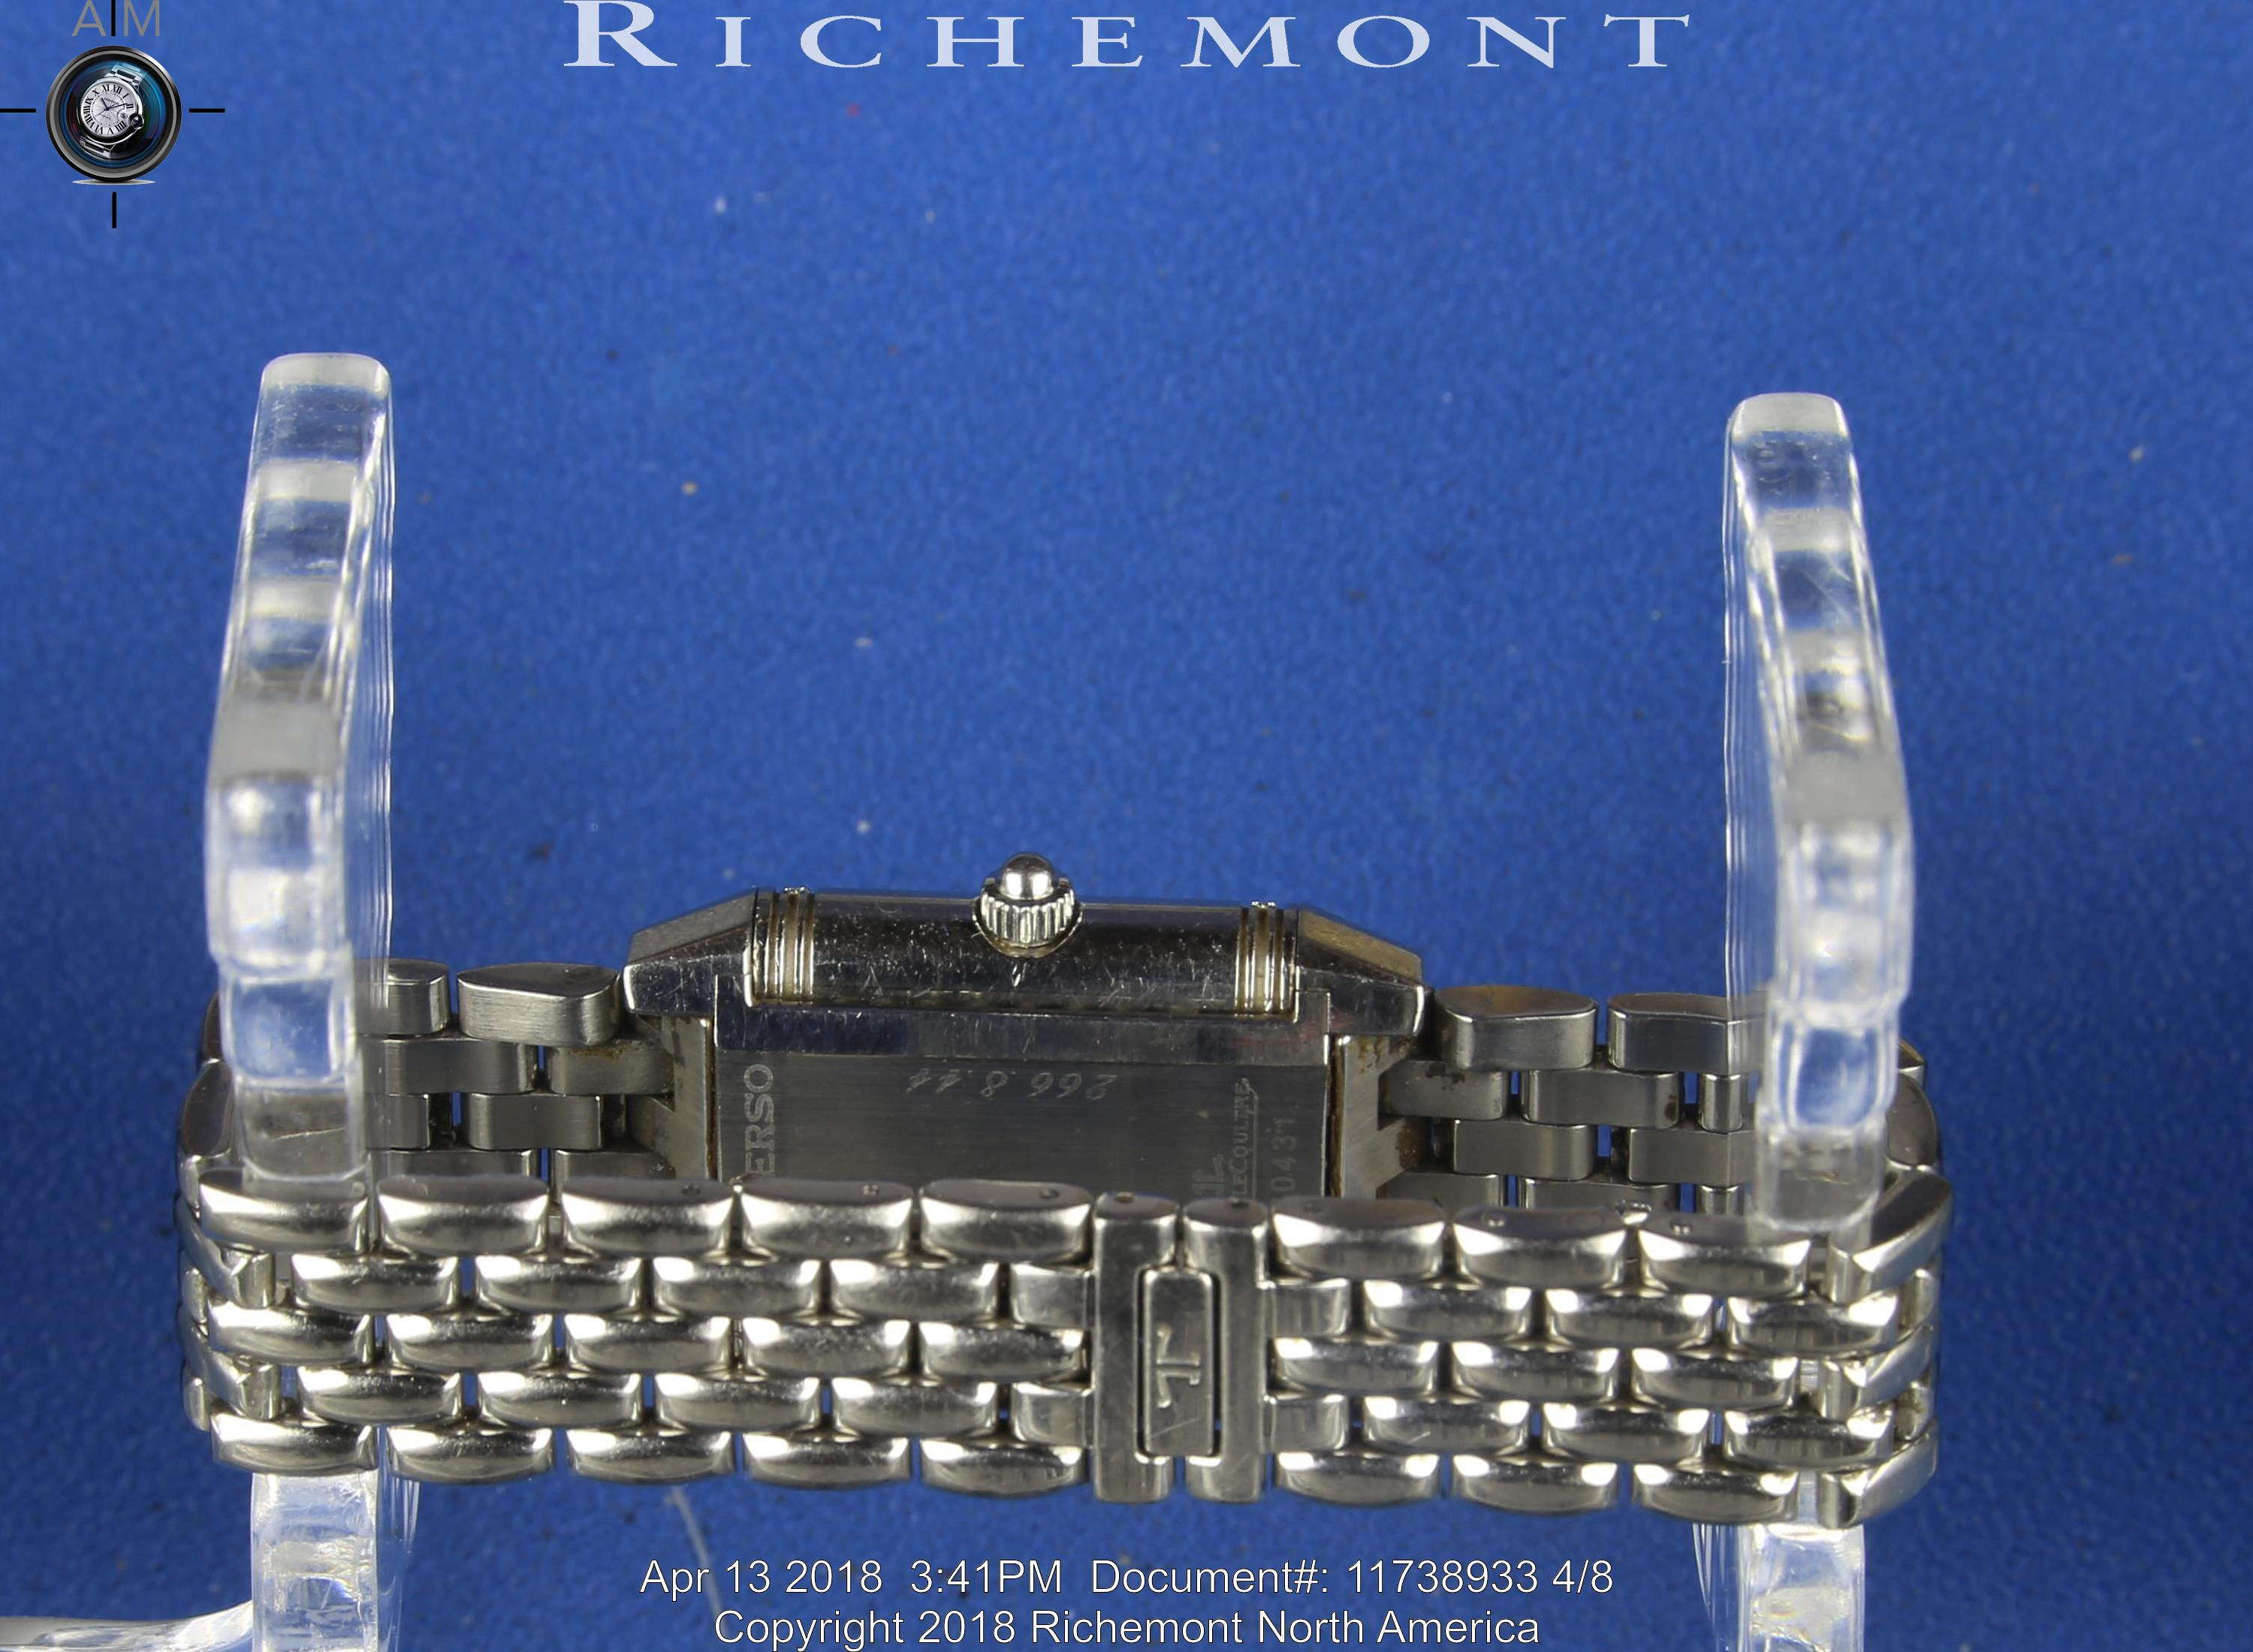Watch Back Case: (631, 865, 1420, 1199)
